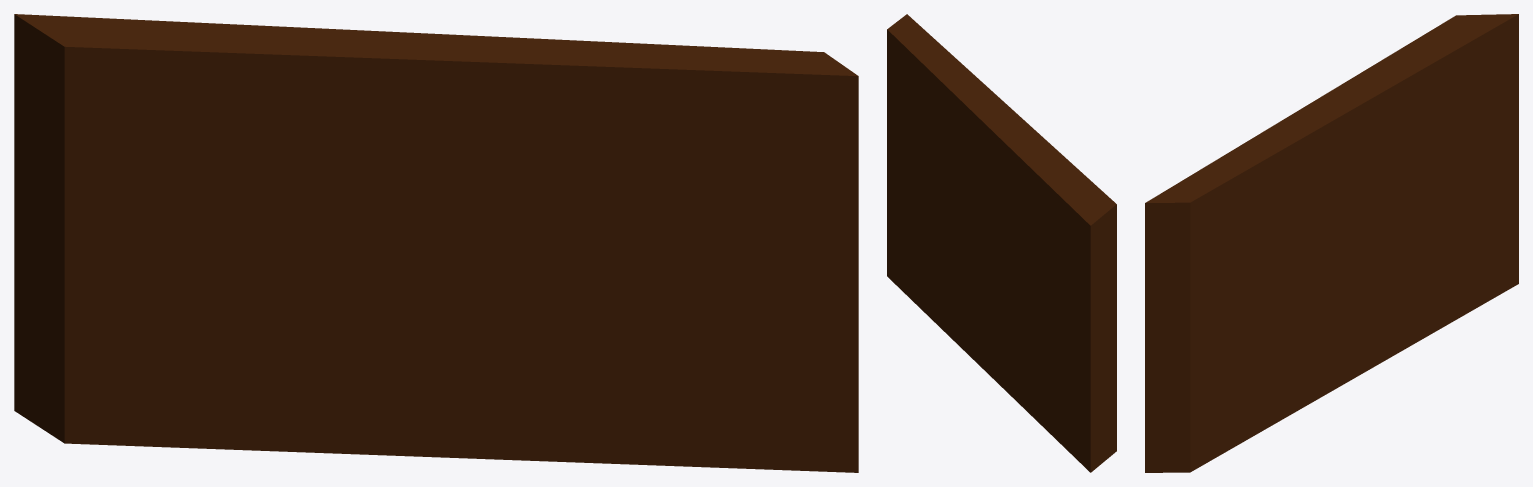
File: murs_cible_left.glb
3 renders of one model, left to right at view 1: azimuth 30°, elevation 25°; view 2: azimuth 150°, elevation 25°; view 3: azimuth 270°, elevation 25°, orthographic. The views are drawn at different scales.
Parts seen in each view (by area): view 1: Cube.004; view 2: Cube.004; view 3: Cube.004.
Boxes of the visible parts, x1=… form: Cube.004: x1=14, y1=14, x2=858, y2=472; Cube.004: x1=887, y1=14, x2=1116, y2=472; Cube.004: x1=1145, y1=14, x2=1518, y2=472.
Bounding box in the file's own units: 0.1346 × 0.0896 × 0.1125.
